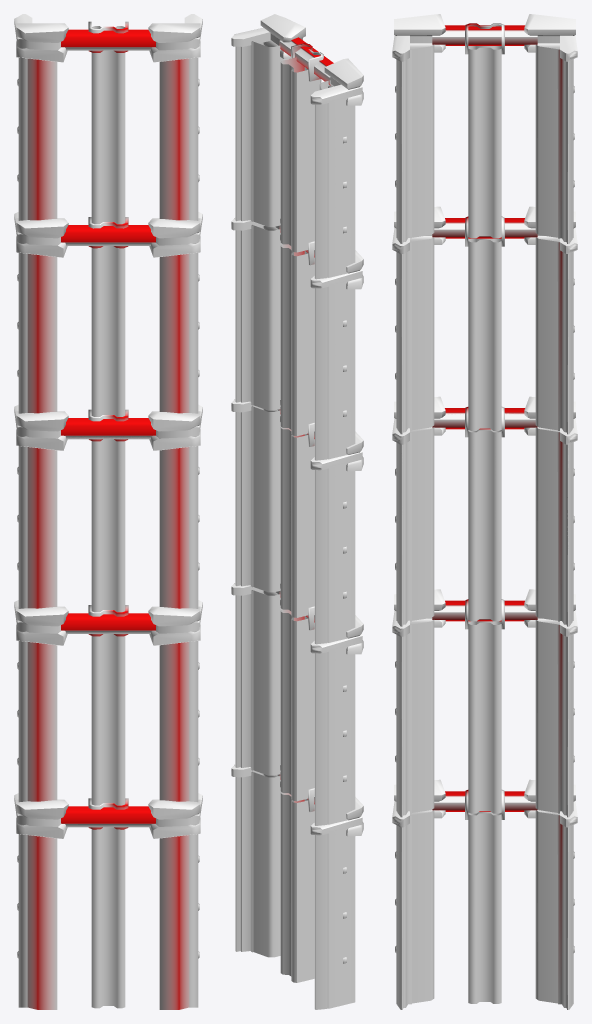
The model's file is MID.FBX.
3 renders of one model, left to right at view 1: azimuth 90°, elevation 25°; view 2: azimuth 210°, elevation 25°; view 3: azimuth 270°, elevation 25°, orthographic. The views are drawn at different scales.
Parts seen in each view (by area): view 1: SM_ConveyorLiftMid_MK1_01.002; view 2: SM_ConveyorLiftMid_MK1_01.002; view 3: SM_ConveyorLiftMid_MK1_01.002.
Boxes of the visible parts, box(x1,y1,x2,y2) form: SM_ConveyorLiftMid_MK1_01.002: box(14, 14, 202, 1009); SM_ConveyorLiftMid_MK1_01.002: box(231, 14, 363, 1009); SM_ConveyorLiftMid_MK1_01.002: box(392, 14, 577, 1009).
Bounding box in the file's own units: 64.7 × 1032 × 178.
